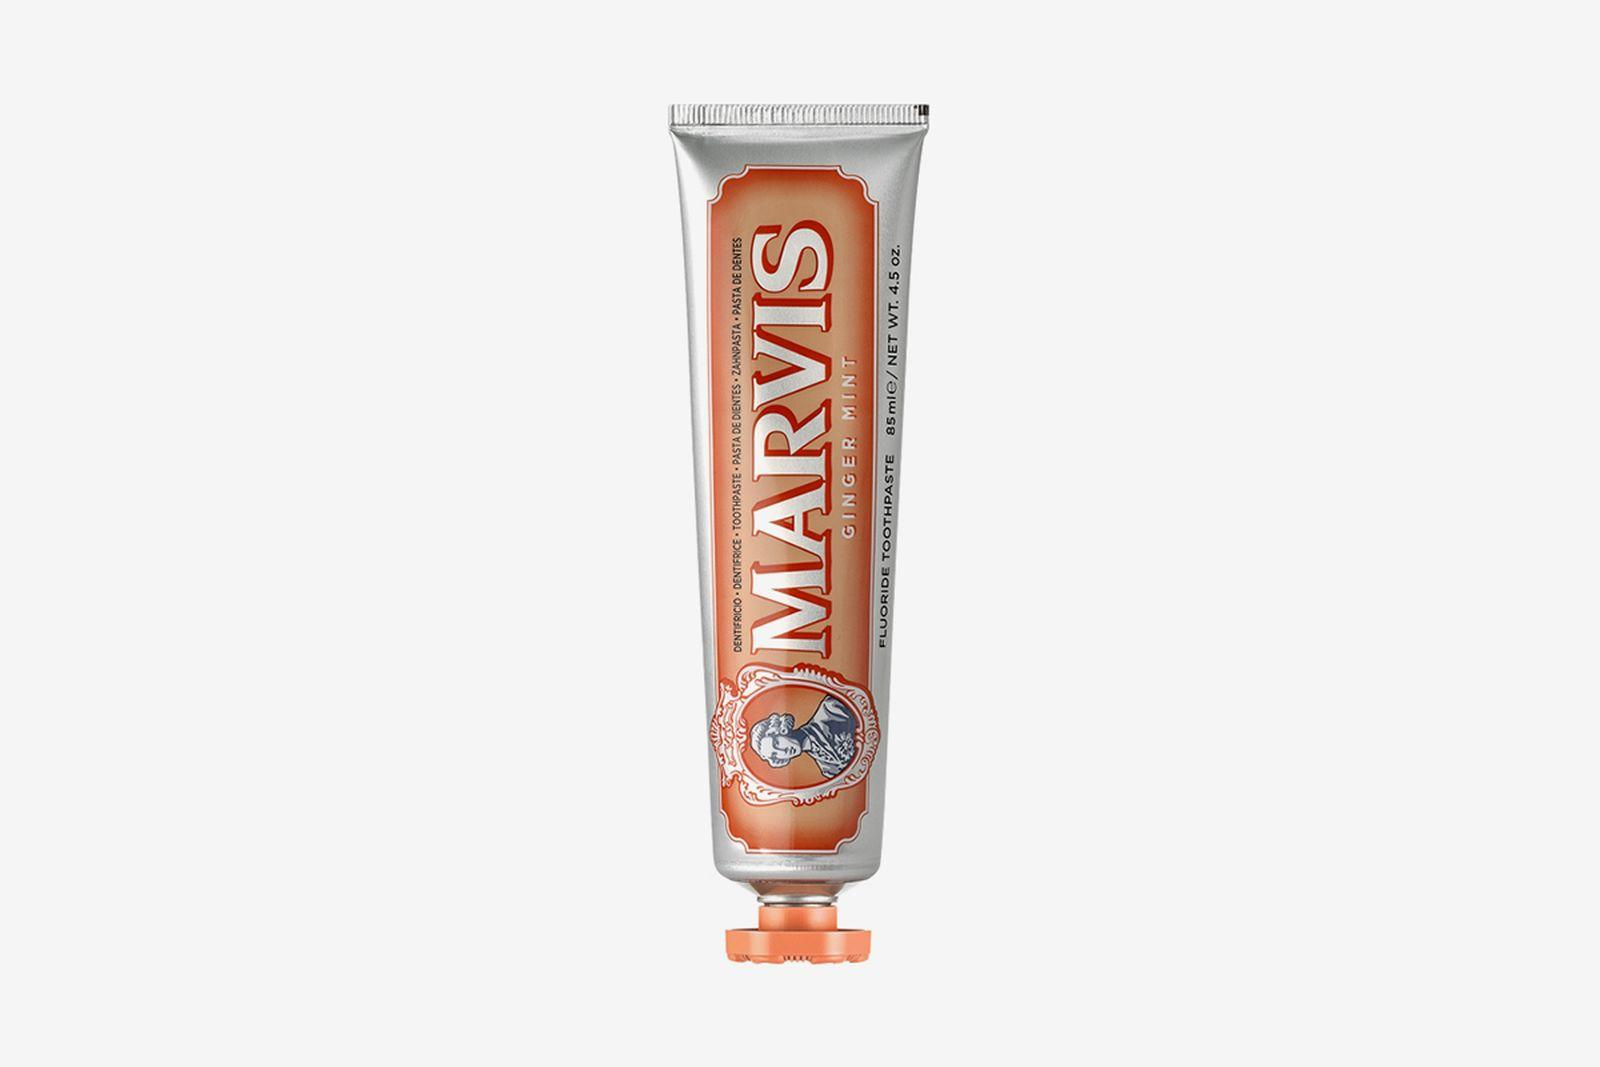toothpaste: (649, 91, 958, 993)
